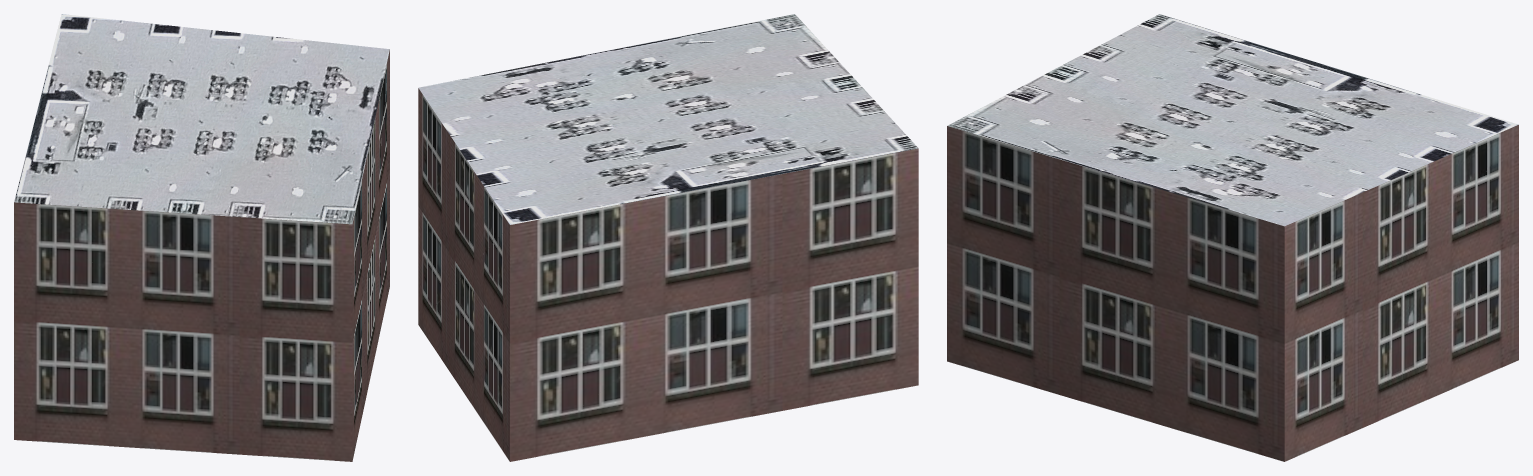
The model's file is ResTex__1107.fbx.
3 renders of one model, left to right at view 1: azimuth 30°, elevation 25°; view 2: azimuth 150°, elevation 25°; view 3: azimuth 270°, elevation 25°, orthographic.
Parts seen in each view (by area): view 1: CityEngineMaterial_12_m, CityEngineMaterial_m; view 2: CityEngineMaterial_12_m, CityEngineMaterial_m; view 3: CityEngineMaterial_12_m, CityEngineMaterial_m.
Boxes of the visible parts, x1=… form: CityEngineMaterial_12_m: x1=14, y1=50, x2=389, y2=461; CityEngineMaterial_m: x1=14, y1=14, x2=389, y2=224; CityEngineMaterial_12_m: x1=418, y1=88, x2=918, y2=461; CityEngineMaterial_m: x1=418, y1=14, x2=918, y2=224; CityEngineMaterial_12_m: x1=947, y1=125, x2=1518, y2=461; CityEngineMaterial_m: x1=947, y1=14, x2=1518, y2=226.
Bounding box in the file's own units: 11.6 × 6 × 13.2.
2 materials, 2 textured.
